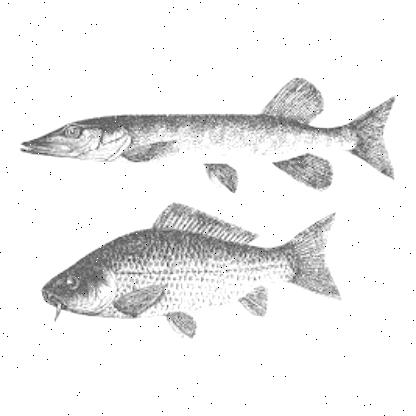ikan-mas: (42, 208, 342, 326)
